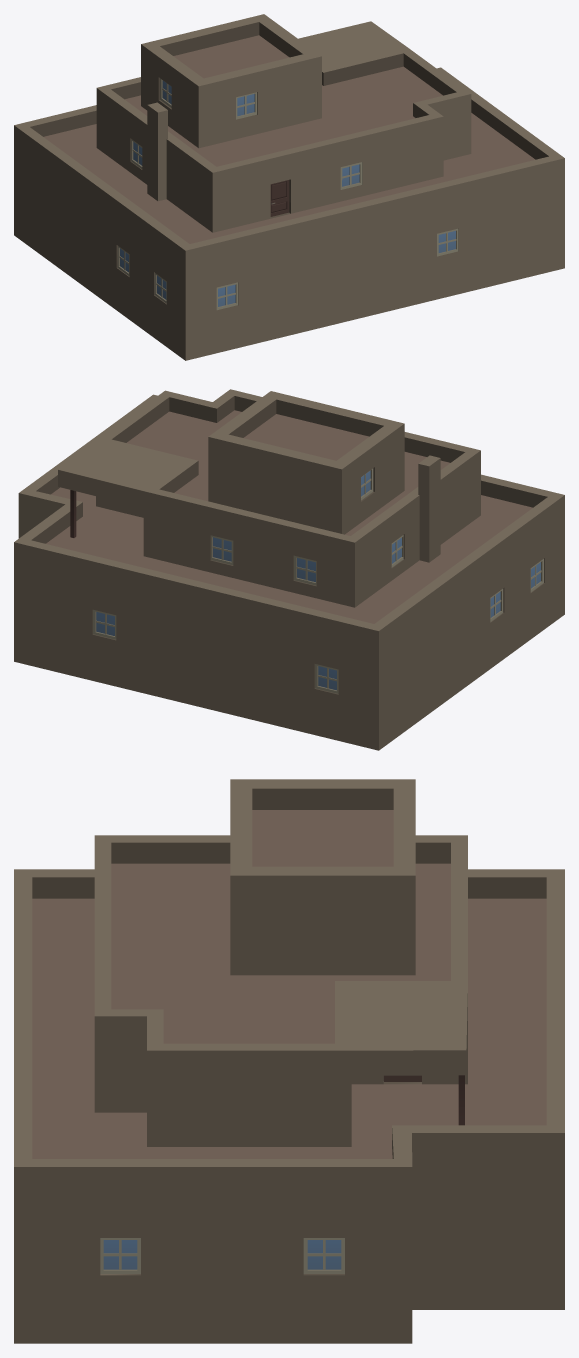
Rendered from Residential_LargeAdobeHouse_alt02.glb.
The picture shows the model from 3 angles, top to bottom: view 1: azimuth 30°, elevation 25°; view 2: azimuth 150°, elevation 25°; view 3: azimuth 270°, elevation 25°; orthographic projection. The views are drawn at different scales.
Parts seen in each view (by area): view 1: base.141, windowRefl.110; view 2: base.141, windowRefl.110; view 3: base.141, windowRefl.110.
Boxes of the visible parts, box(x1,y1,x2,y2) form: base.141: box(14, 14, 564, 360); windowRefl.110: box(120, 80, 455, 306); base.141: box(14, 389, 564, 750); windowRefl.110: box(96, 470, 540, 690); base.141: box(14, 779, 564, 1343); windowRefl.110: box(103, 1240, 341, 1269).
Size of the model in its own units: 33.46 by 17.33 by 26.21.
